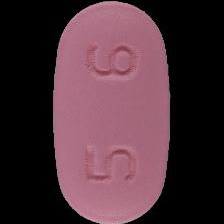13107-155: (0, 0, 224, 224)
